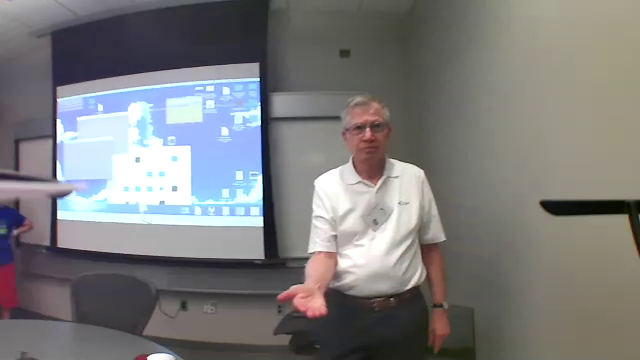land: (264, 280, 339, 321)
